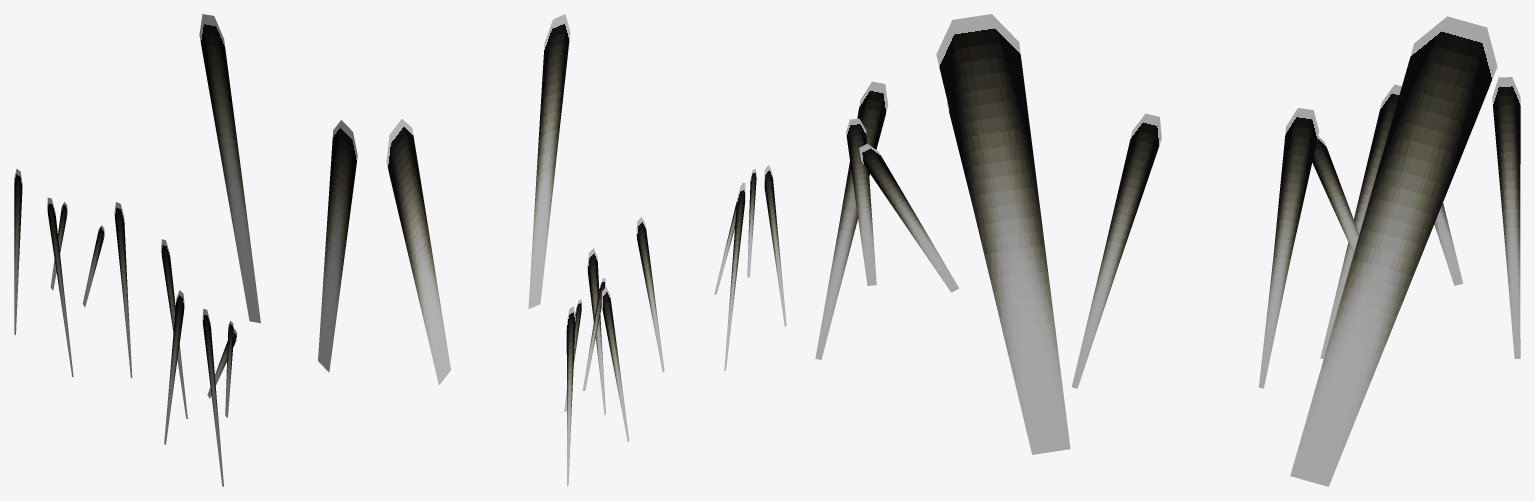
Rendered from stg110_MotSpotF_24.obj.
3 renders of one model, left to right at view 1: azimuth 30°, elevation 25°; view 2: azimuth 150°, elevation 25°; view 3: azimuth 270°, elevation 25°, orthographic. The views are drawn at different scales.
Parts seen in each view (by area): view 1: polygon11, polygon10, polygon2, polygon0, polygon4, polygon5, polygon3, polygon1, polygon6, polygon8, polygon9; view 2: polygon11, polygon10, polygon1, polygon5, polygon0, polygon4, polygon3, polygon2, polygon6, polygon8; view 3: polygon11, polygon10, polygon2, polygon1, polygon3, polygon0, polygon4, polygon7, polygon6, polygon8, polygon9.
Boxes of the visible parts, bbox=[...] form: polygon11: bbox=[199, 14, 260, 323]; polygon10: bbox=[318, 120, 357, 372]; polygon2: bbox=[114, 202, 132, 378]; polygon0: bbox=[202, 308, 223, 486]; polygon4: bbox=[47, 197, 73, 377]; polygon5: bbox=[164, 290, 184, 444]; polygon3: bbox=[14, 169, 22, 334]; polygon1: bbox=[161, 239, 187, 418]; polygon6: bbox=[225, 321, 234, 417]; polygon8: bbox=[82, 225, 104, 307]; polygon9: bbox=[50, 202, 67, 290]; polygon11: bbox=[386, 119, 450, 385]; polygon10: bbox=[528, 14, 570, 309]; polygon1: bbox=[636, 217, 664, 372]; polygon5: bbox=[724, 184, 745, 370]; polygon0: bbox=[764, 165, 786, 326]; polygon4: bbox=[601, 287, 629, 442]; polygon3: bbox=[566, 306, 575, 486]; polygon2: bbox=[587, 248, 605, 415]; polygon6: bbox=[747, 169, 756, 277]; polygon8: bbox=[582, 278, 605, 390]; polygon11: bbox=[1290, 16, 1497, 486]; polygon10: bbox=[936, 14, 1070, 454]; polygon2: bbox=[1258, 108, 1318, 388]; polygon1: bbox=[1071, 113, 1161, 388]; polygon3: bbox=[1492, 77, 1520, 358]; polygon0: bbox=[815, 81, 888, 359]; polygon4: bbox=[1320, 84, 1401, 358]; polygon7: bbox=[859, 143, 958, 292]; polygon6: bbox=[846, 118, 876, 285]; polygon8: bbox=[1312, 136, 1359, 253]; polygon9: bbox=[1434, 203, 1463, 285].
Bounding box in the file's own units: 897 × 1399 × 1825.
